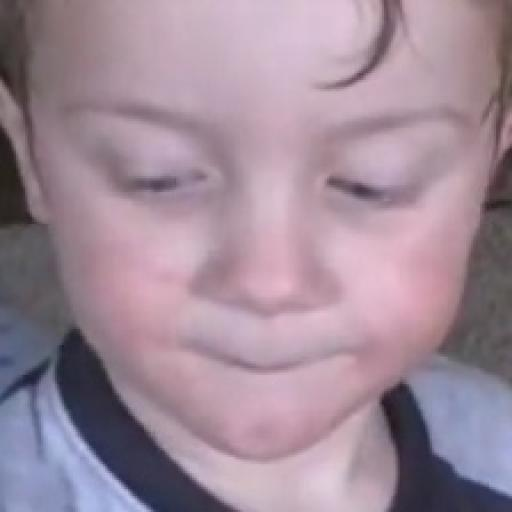Autism: (13, 2, 512, 475)
